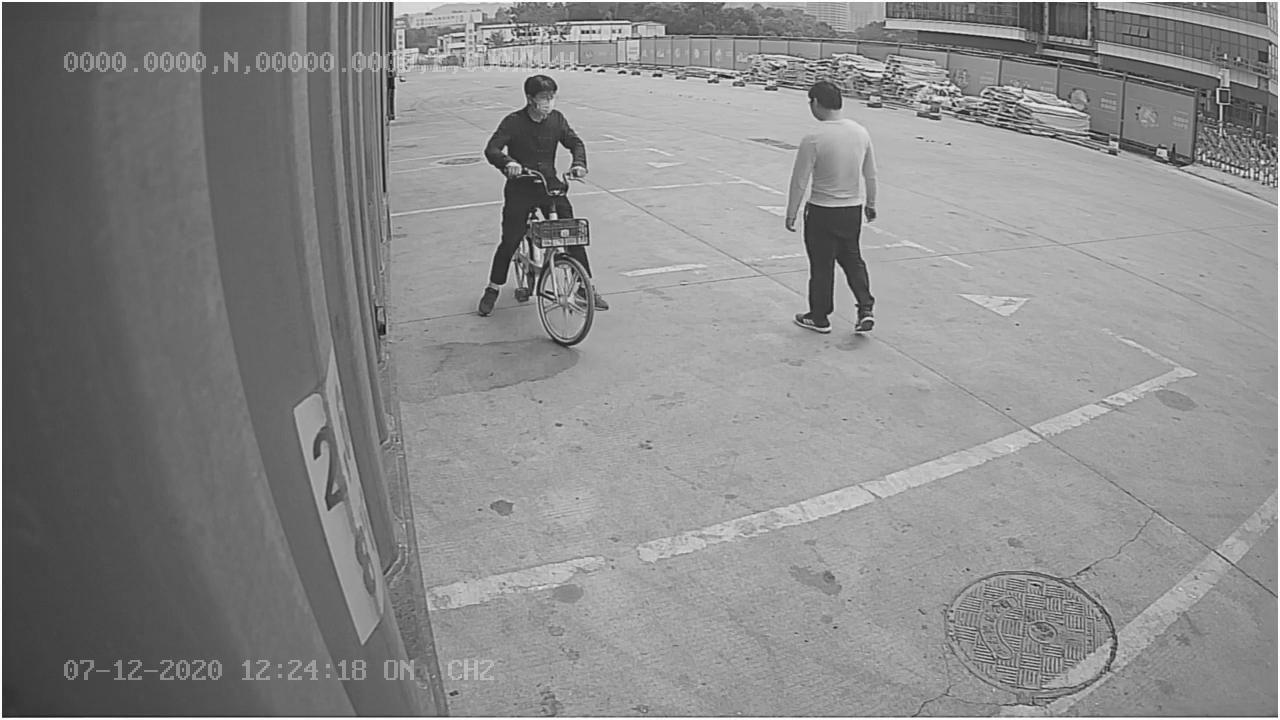person: (777, 75, 881, 341)
